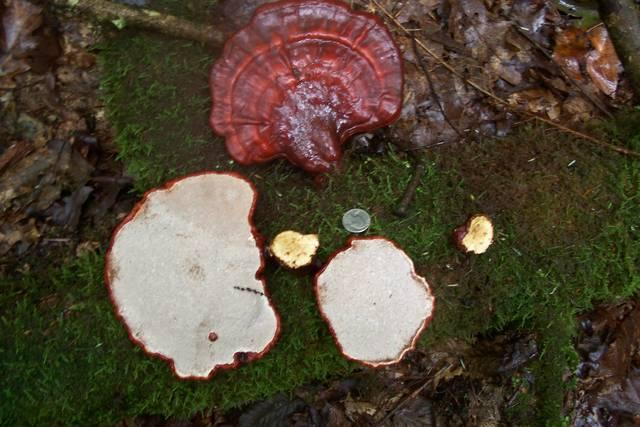Non-edible Mushroom: (102, 169, 282, 381), (270, 215, 489, 383), (207, 0, 405, 176)
